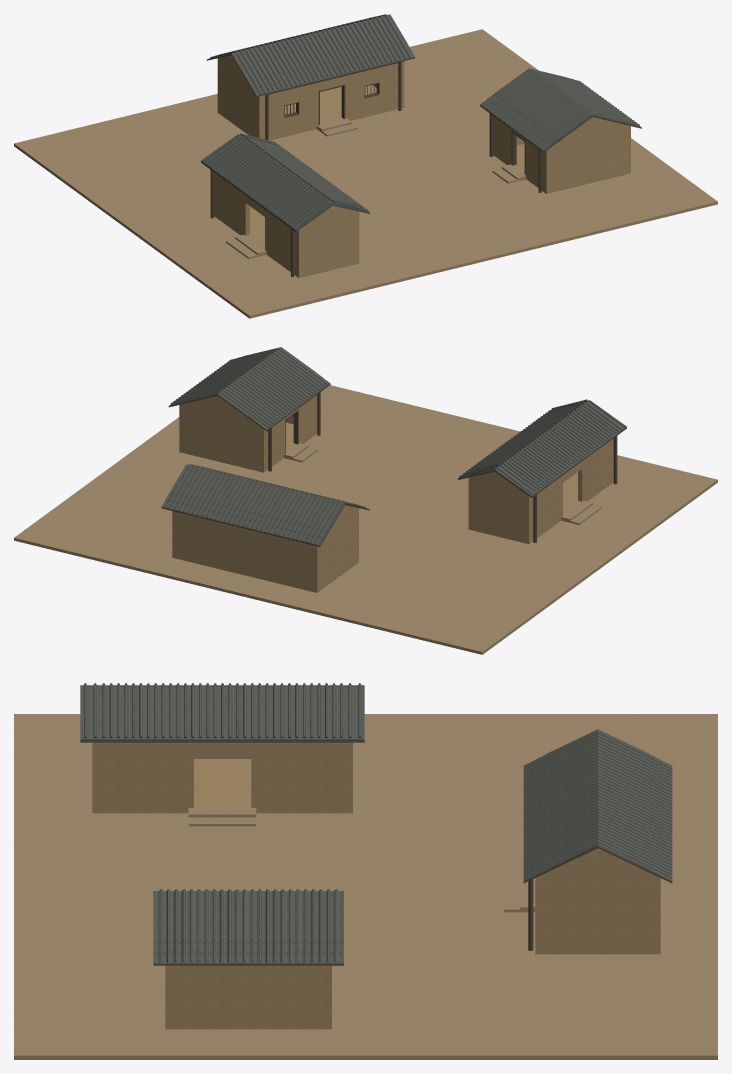
Rendered from z09-civic-B-LOD0.glb.
3 views of the same model, one above another, from view 1: azimuth 30°, elevation 25°; view 2: azimuth 150°, elevation 25°; view 3: azimuth 270°, elevation 25° (orthographic). The views are drawn at different scales.
Parts seen in each view (by area): view 1: Z09_batched_Z09_NEW_court_and_steps, Z09_batched_LY_P01_earth__PBR, Z09_batched_LY_P01_tile__PBR, Z09_batched_LY_P01_timber__PBR; view 2: Z09_batched_Z09_NEW_court_and_steps, Z09_batched_LY_P01_earth__PBR, Z09_batched_LY_P01_tile__PBR, Z09_batched_LY_P01_timber__PBR; view 3: Z09_batched_Z09_NEW_court_and_steps, Z09_batched_LY_P01_tile__PBR, Z09_batched_LY_P01_earth__PBR, Z09_batched_LY_P01_timber__PBR.
Part boxes in pixels (x1=…): Z09_batched_Z09_NEW_court_and_steps: x1=14, y1=29, x2=717, y2=318; Z09_batched_LY_P01_earth__PBR: x1=214, y1=55, x2=630, y2=278; Z09_batched_LY_P01_tile__PBR: x1=201, y1=14, x2=641, y2=231; Z09_batched_LY_P01_timber__PBR: x1=206, y1=53, x2=641, y2=276; Z09_batched_Z09_NEW_court_and_steps: x1=14, y1=385, x2=717, y2=654; Z09_batched_LY_P01_earth__PBR: x1=172, y1=395, x2=613, y2=592; Z09_batched_LY_P01_tile__PBR: x1=161, y1=347, x2=626, y2=545; Z09_batched_LY_P01_timber__PBR: x1=161, y1=384, x2=617, y2=546; Z09_batched_Z09_NEW_court_and_steps: x1=14, y1=714, x2=717, y2=1059; Z09_batched_LY_P01_tile__PBR: x1=80, y1=683, x2=672, y2=964; Z09_batched_LY_P01_earth__PBR: x1=92, y1=742, x2=660, y2=1029; Z09_batched_LY_P01_timber__PBR: x1=153, y1=845, x2=672, y2=965.
Bounding box in the file's own units: 31 × 5.09 × 27.
Materials: 4 (4 with a texture image).
